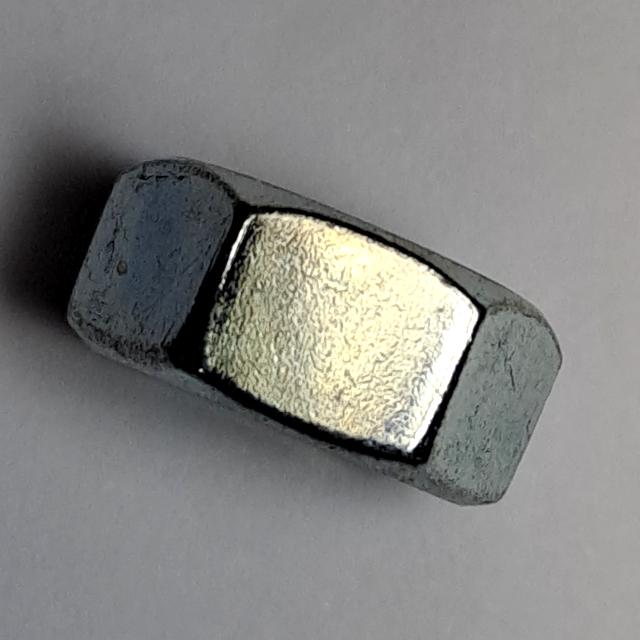Side_Excellent: (60, 147, 574, 522)
